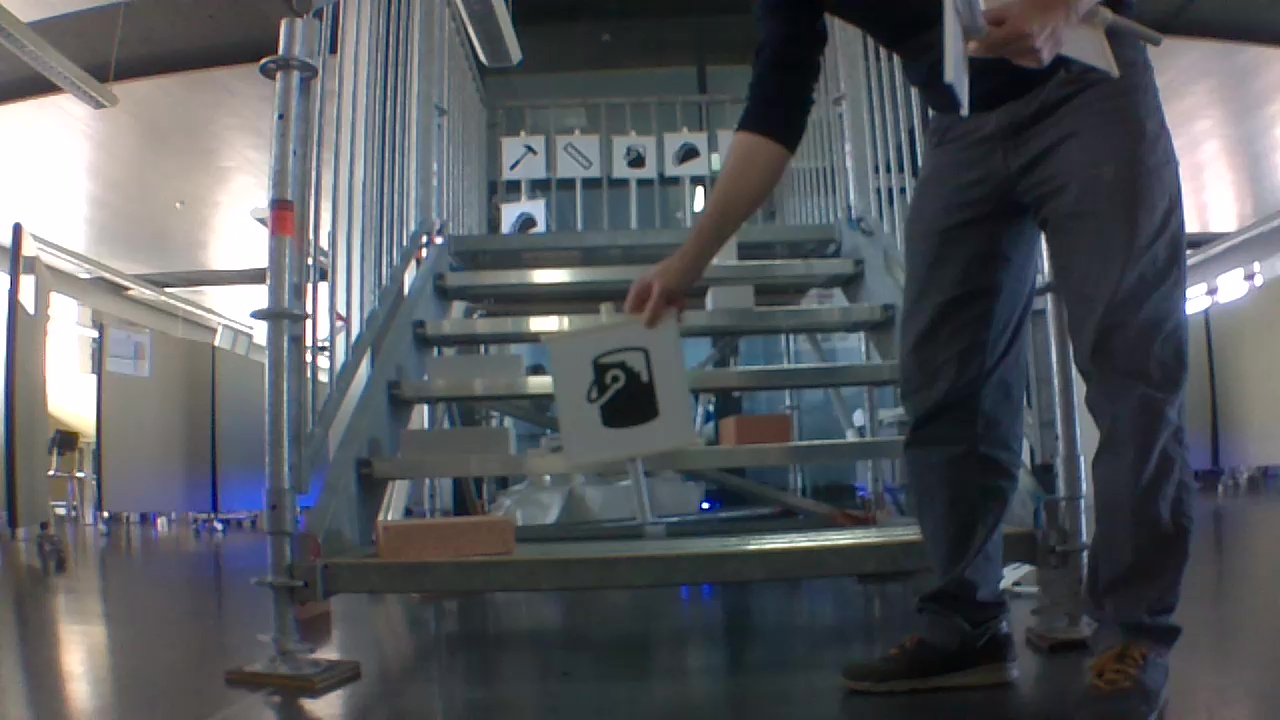brick: (374, 510, 514, 559), (397, 427, 518, 457), (424, 352, 526, 386), (717, 409, 792, 446), (709, 282, 757, 314)
bucket: (584, 339, 660, 434), (625, 140, 647, 169)
edge: (304, 525, 911, 607)
hammer: (507, 139, 540, 175)
ruler: (562, 140, 592, 173)
taco: (670, 141, 701, 170), (511, 208, 540, 235)
